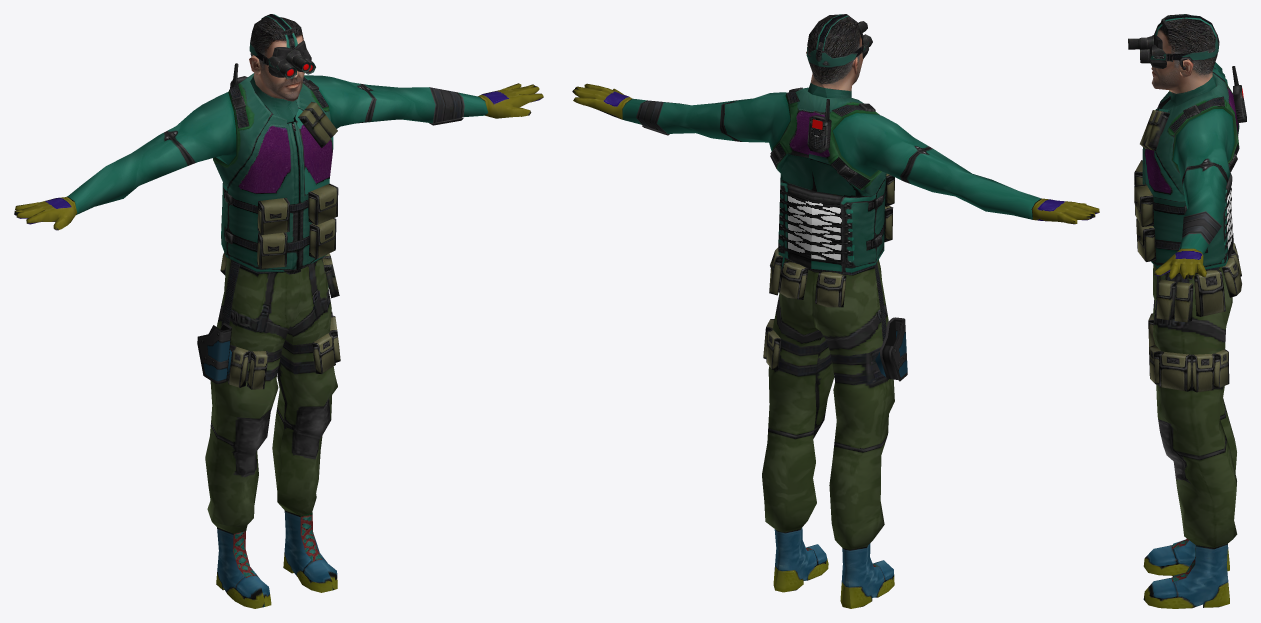
File: Sam Fisher.fbx
3 views of the same model, side by side, from view 1: azimuth 30°, elevation 25°; view 2: azimuth 150°, elevation 25°; view 3: azimuth 270°, elevation 25° (orthographic).
Visible parts, largest first — view 1: SamA:SamABody, SamA:SamAbodyHeat, SamA:SamAFace; view 2: SamA:SamABody, SamA:SamAbodyHeat, SamA:SamAFace; view 3: SamA:SamABody, SamA:SamAbodyHeat, SamA:SamAFace, SamA:SamAfaceHeat.
Part boxes in pixels (x1,y1,x2,y2): SamA:SamABody: [14, 17, 543, 608]; SamA:SamAbodyHeat: [197, 14, 463, 389]; SamA:SamAFace: [249, 16, 304, 122]; SamA:SamABody: [572, 14, 1099, 608]; SamA:SamAbodyHeat: [642, 14, 907, 381]; SamA:SamAFace: [806, 23, 863, 97]; SamA:SamABody: [1143, 14, 1237, 608]; SamA:SamAbodyHeat: [1128, 14, 1246, 392]; SamA:SamAFace: [1151, 20, 1217, 109]; SamA:SamAfaceHeat: [1150, 36, 1219, 61].
Size of the model in its own units: 170 by 176 by 33.24.
2 materials, 2 textured.
